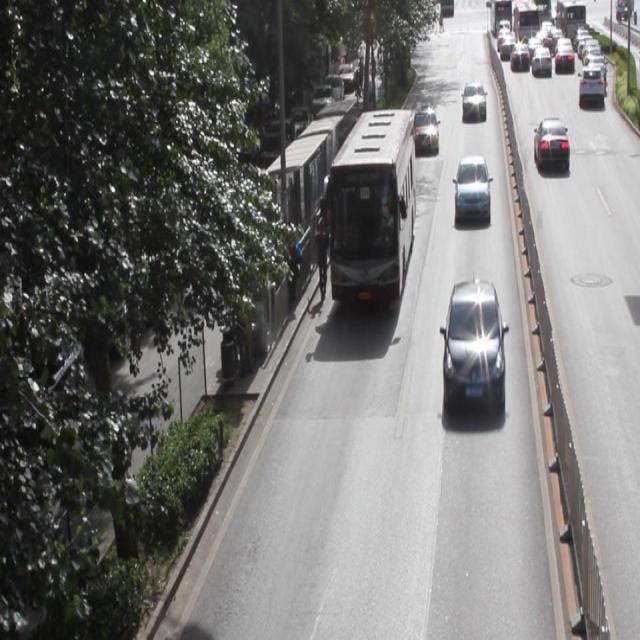car: (444, 278, 504, 412), (453, 155, 490, 218), (532, 116, 568, 176), (412, 108, 438, 152), (460, 80, 485, 120)
van: (328, 109, 413, 305)
